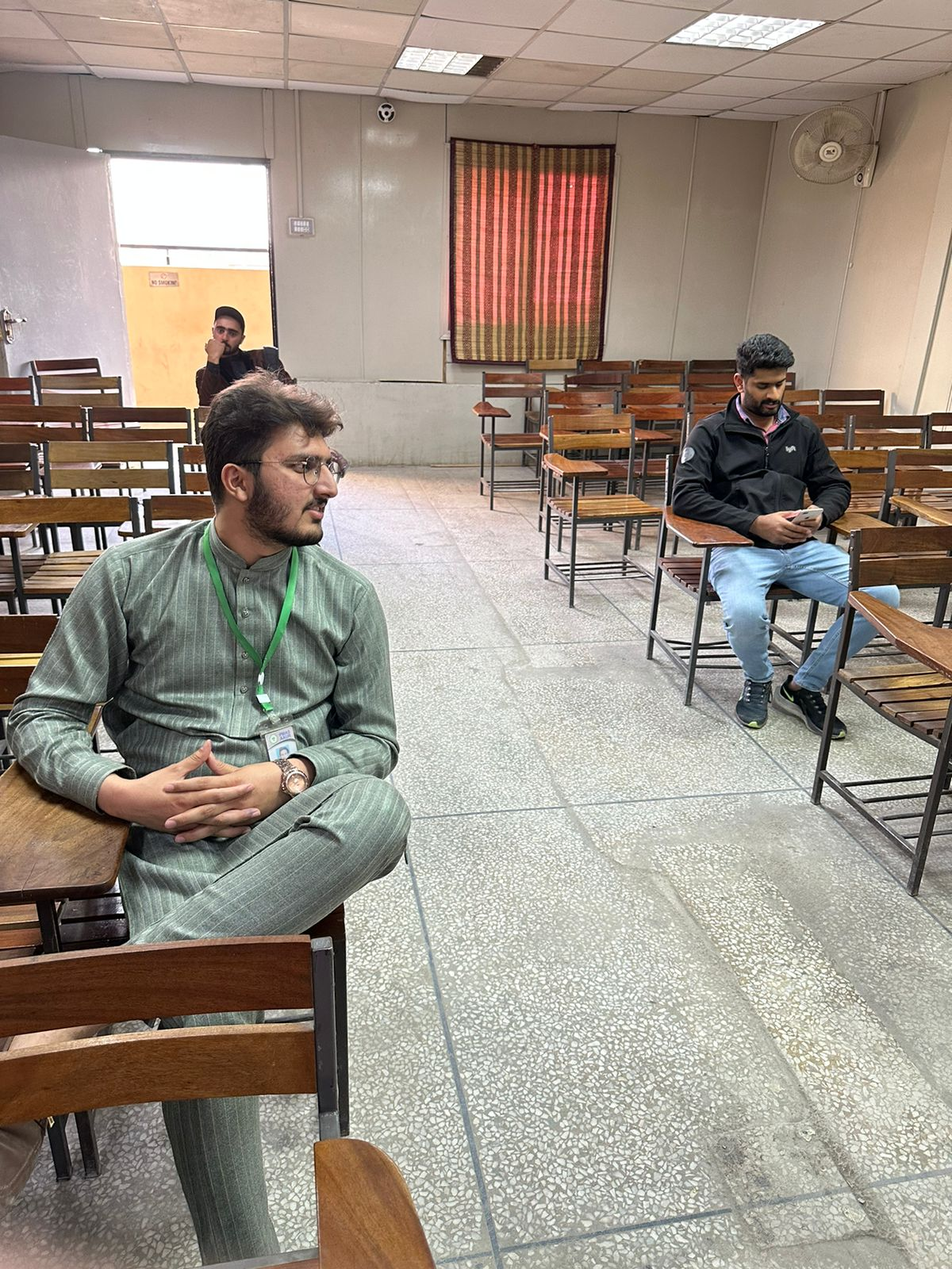non-cheating: (210, 306, 246, 354)
phone: (759, 505, 823, 547)
